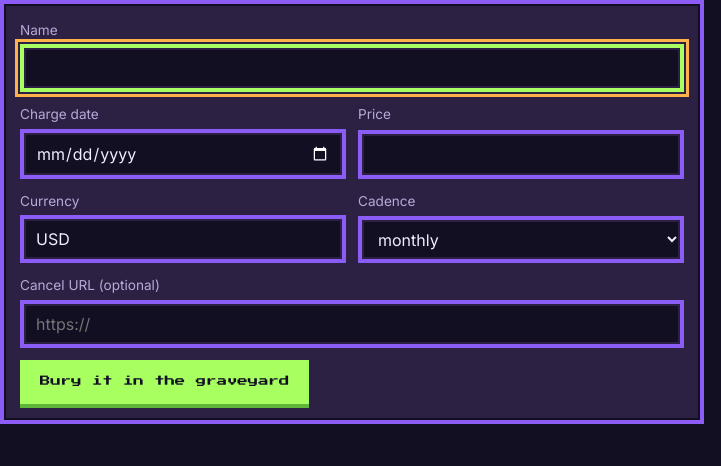
it: GraveForm › shows an inline error and does not save: empty name
This screenshot has width=721, height=466.
In the date field labelled "Charge date": (183, 154) x1=20 y1=129 x2=346 y2=179, type "2026-10-31"
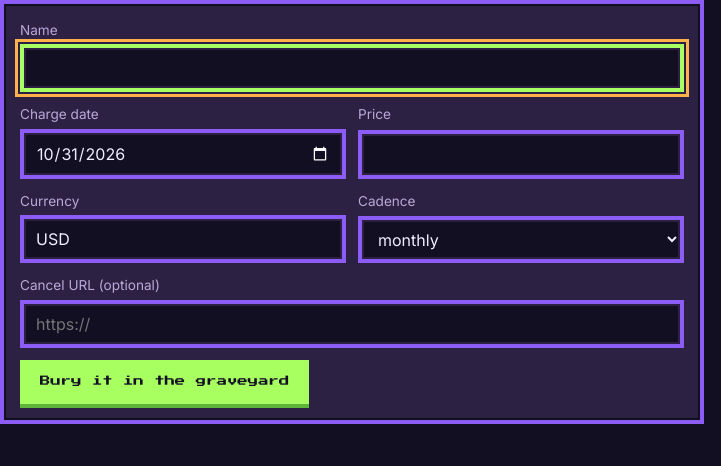
In the field labelled "Price": (521, 154) x1=358 y1=130 x2=684 y2=179, type "5"
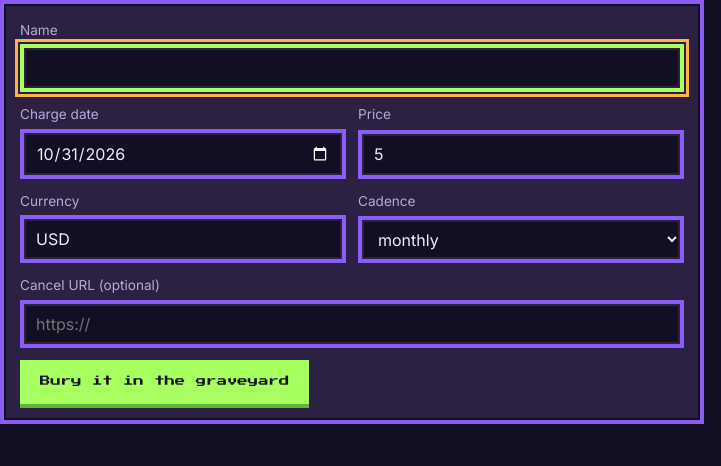
Submit the form named "Grave details"
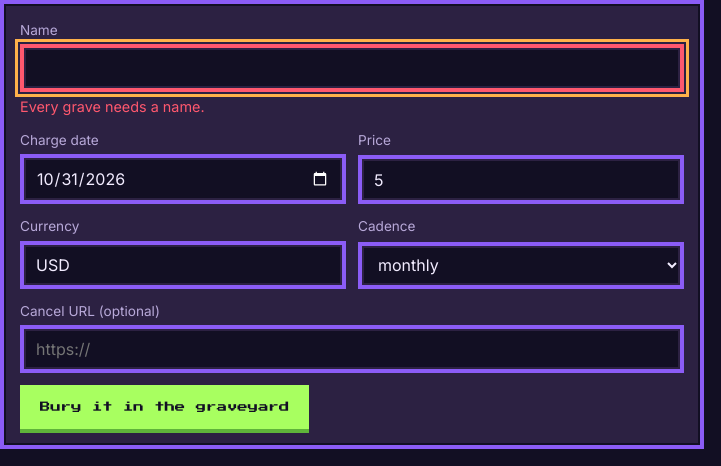
Expected: the message reads "Every grave needs a name.", x1=20 y1=98 x2=205 y2=115
